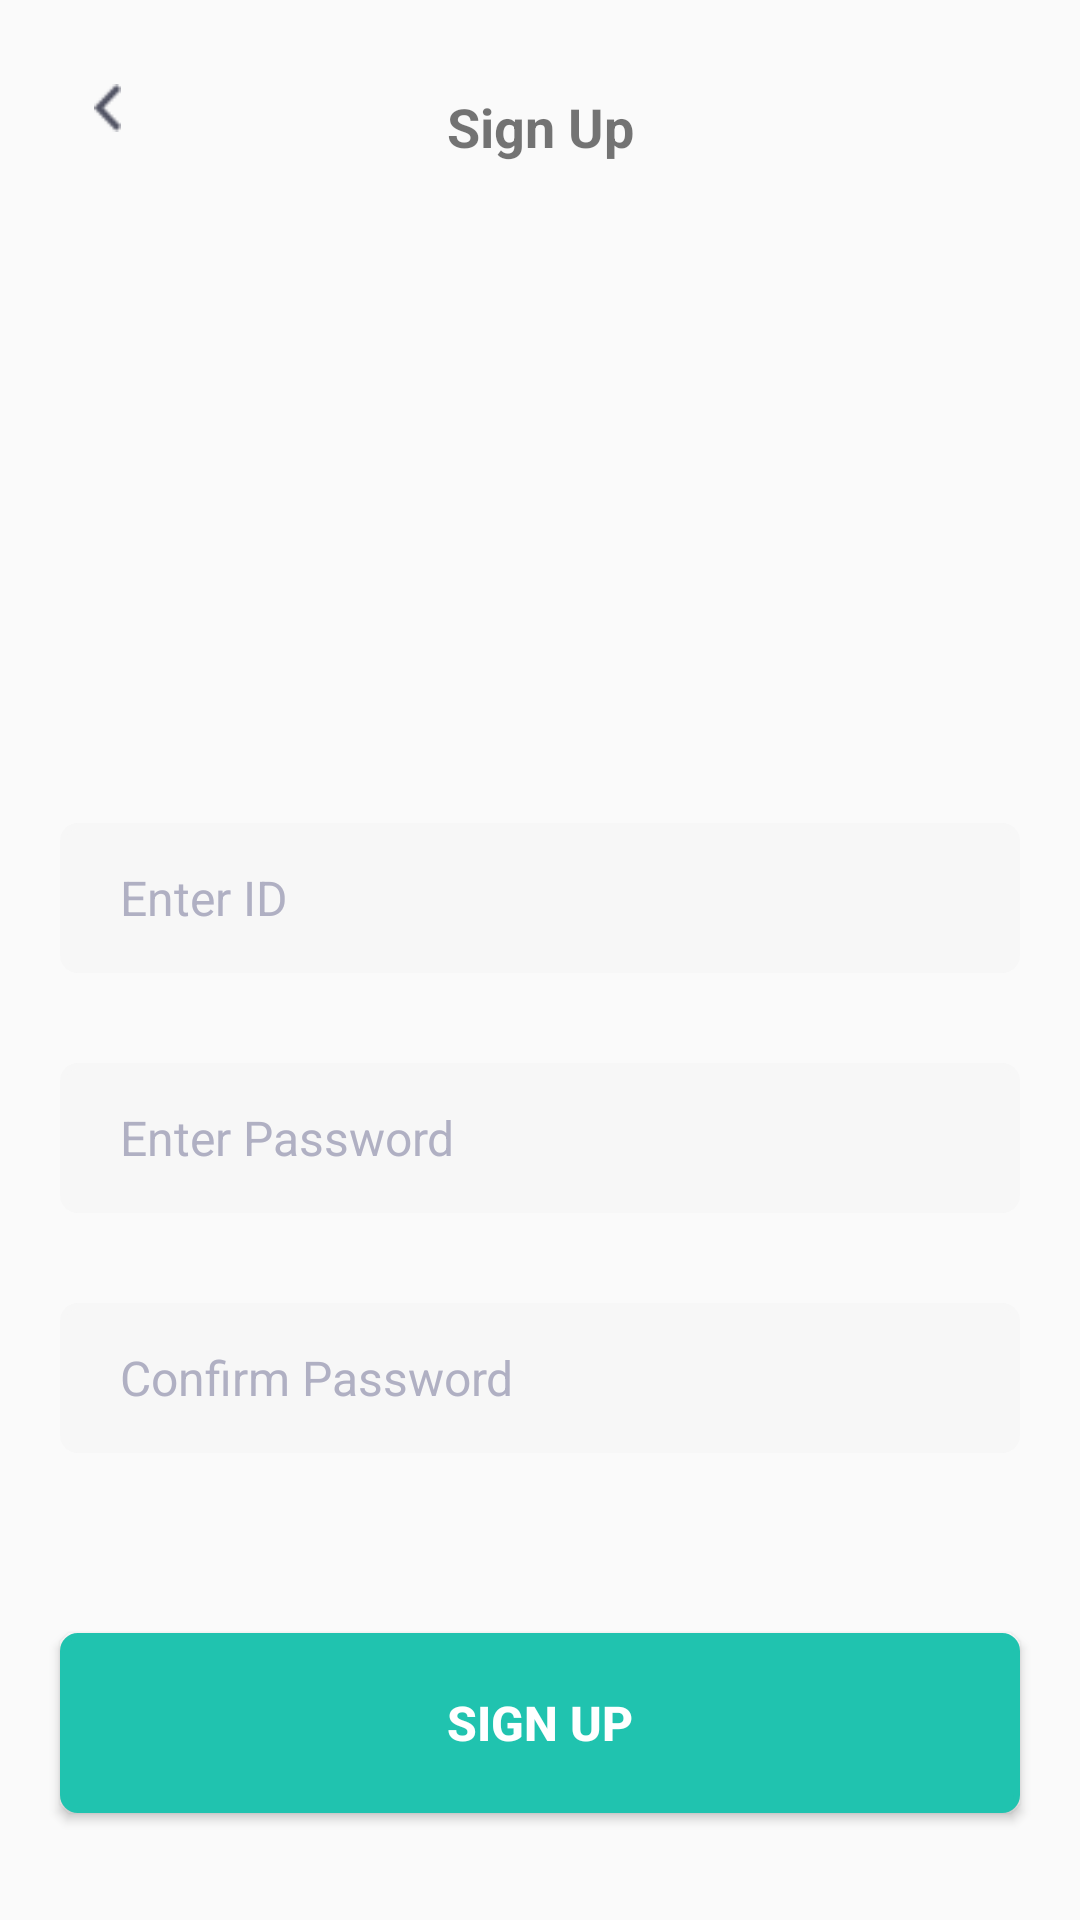

Where to tap for icons on this 1080px x 1920px app screen, as [x,y]:
back: [107,108]
